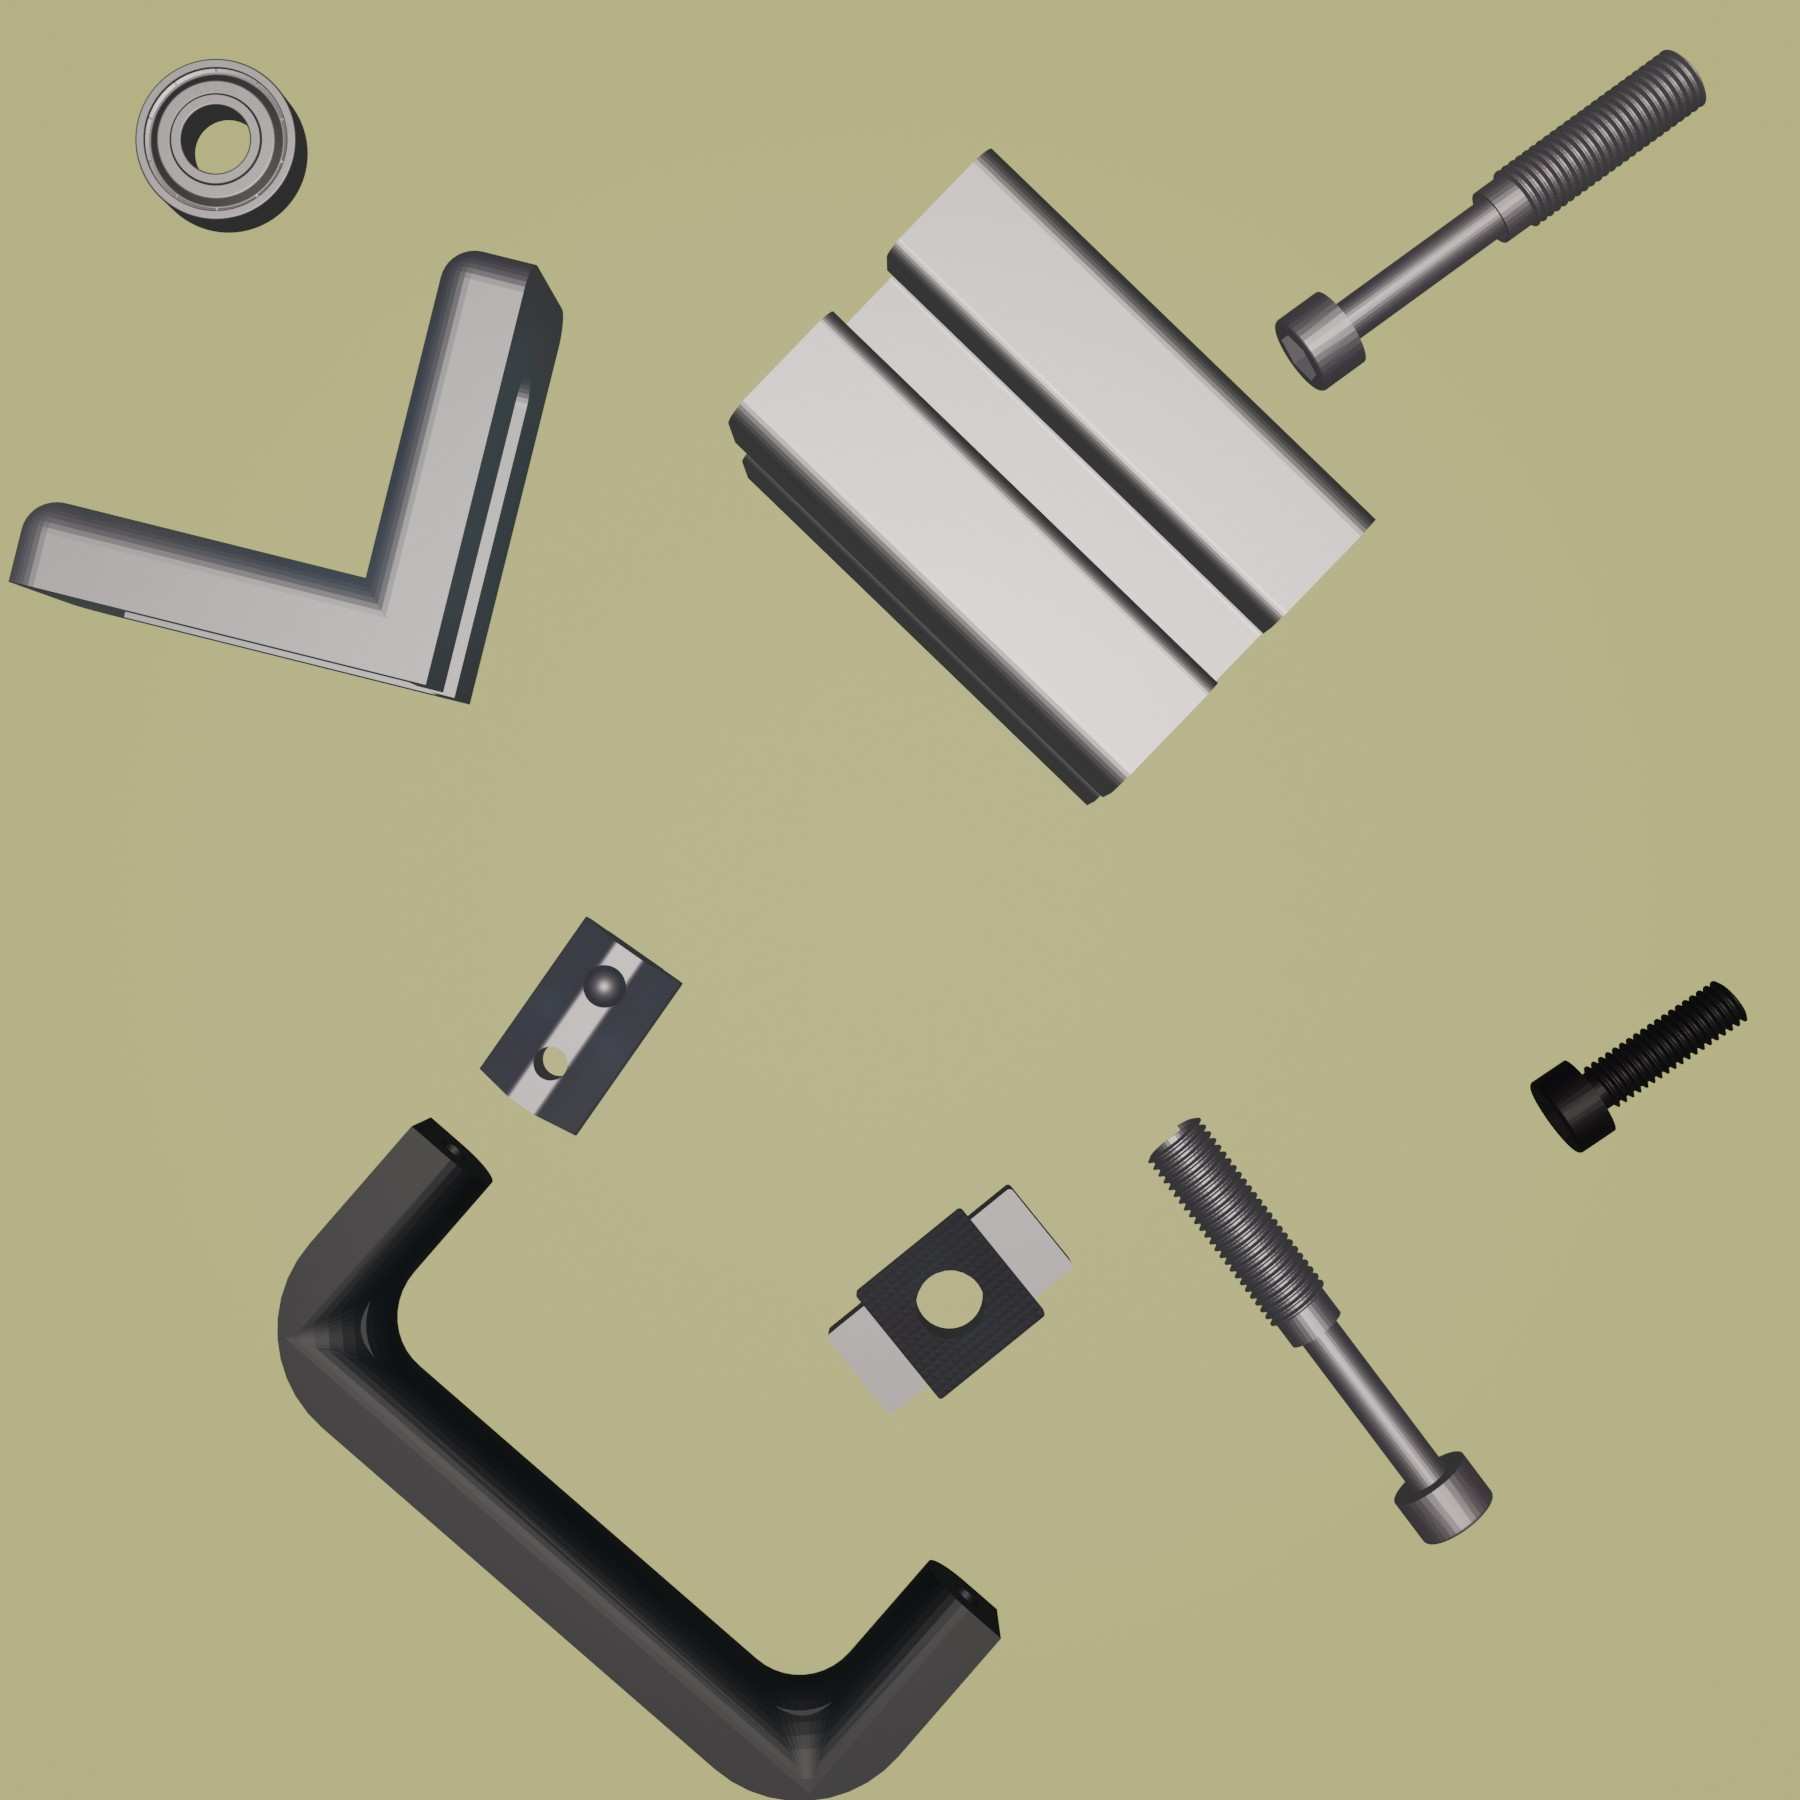Aluminium Extension: (725, 145, 1380, 809)
Ball Bearing: (134, 54, 308, 236)
Multiwinkel: (8, 249, 565, 709)
Pull Handle: (277, 1114, 1004, 1800)
Shoulder Socket Head Cap Screw: (1274, 46, 1711, 392), (1146, 1116, 1493, 1545)
Socket Head Cap Screw: (1528, 977, 1751, 1157)
T Nut Square: (824, 1182, 1075, 1419)
T Spring Nut: (478, 913, 681, 1139)
